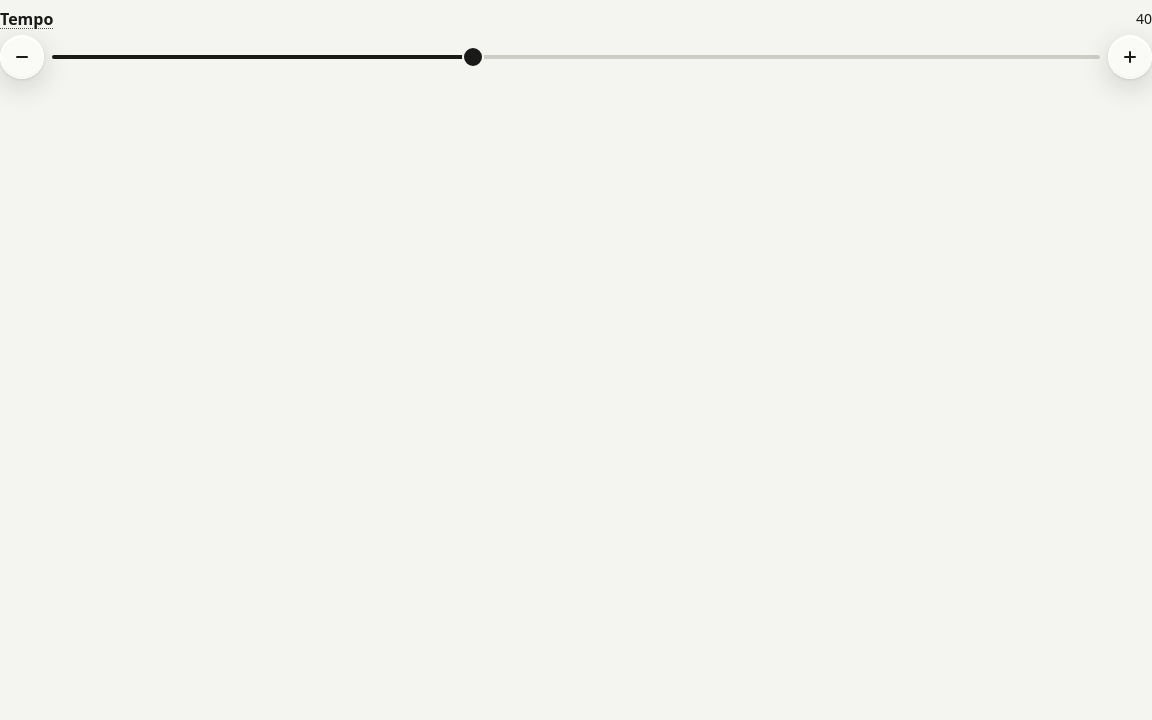
Dial › opens the term sheet from its label
Click the button "Tempo" at (27, 20), box [0,4,53,35]
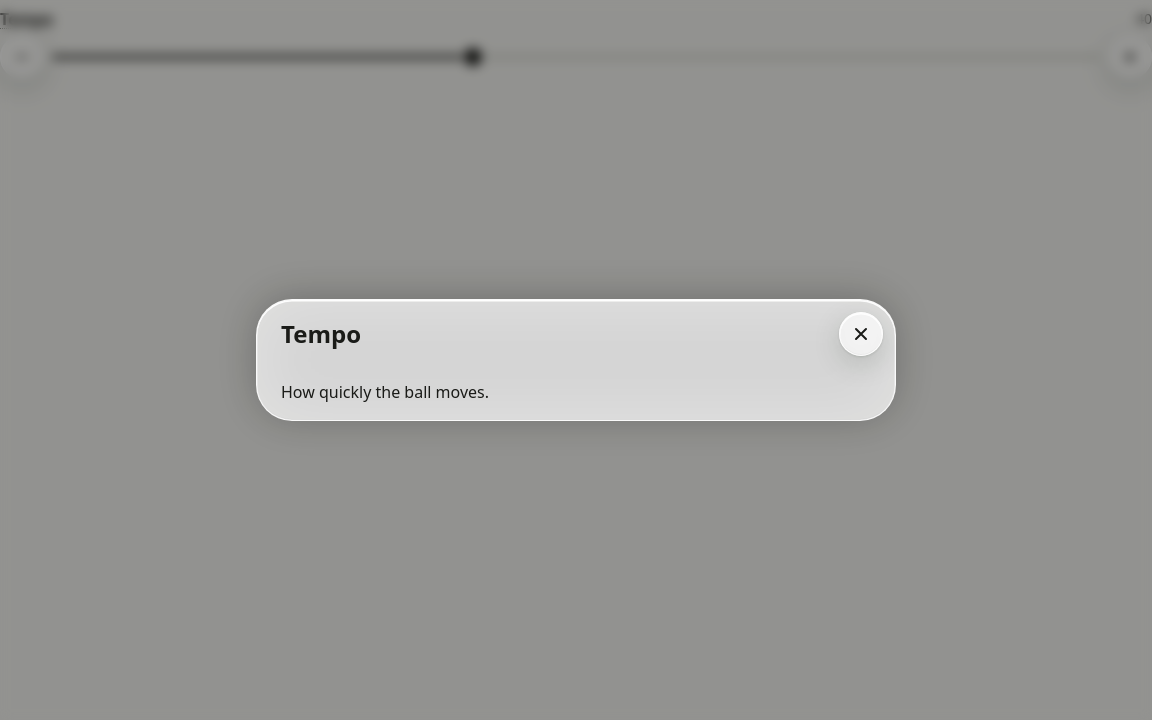
Expected: the slider named "Tempo" is shown, [52,35,1100,79]
Expected: the dialog "Tempo" shows "How quickly the ball moves.", [281,381,489,403]
